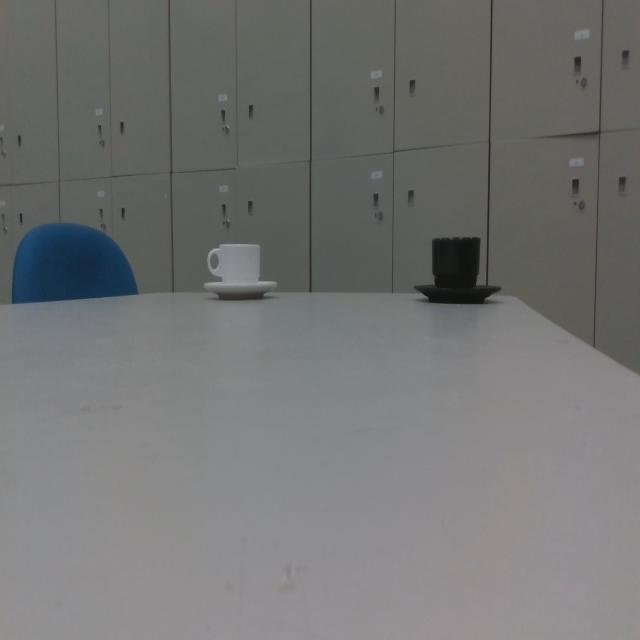black: (412, 234, 501, 305)
white: (202, 241, 277, 304)
